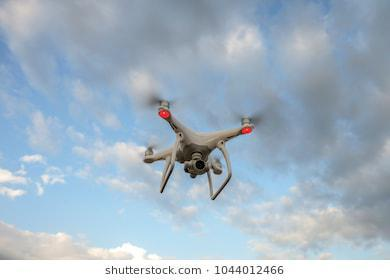drone: (99, 66, 297, 216)
